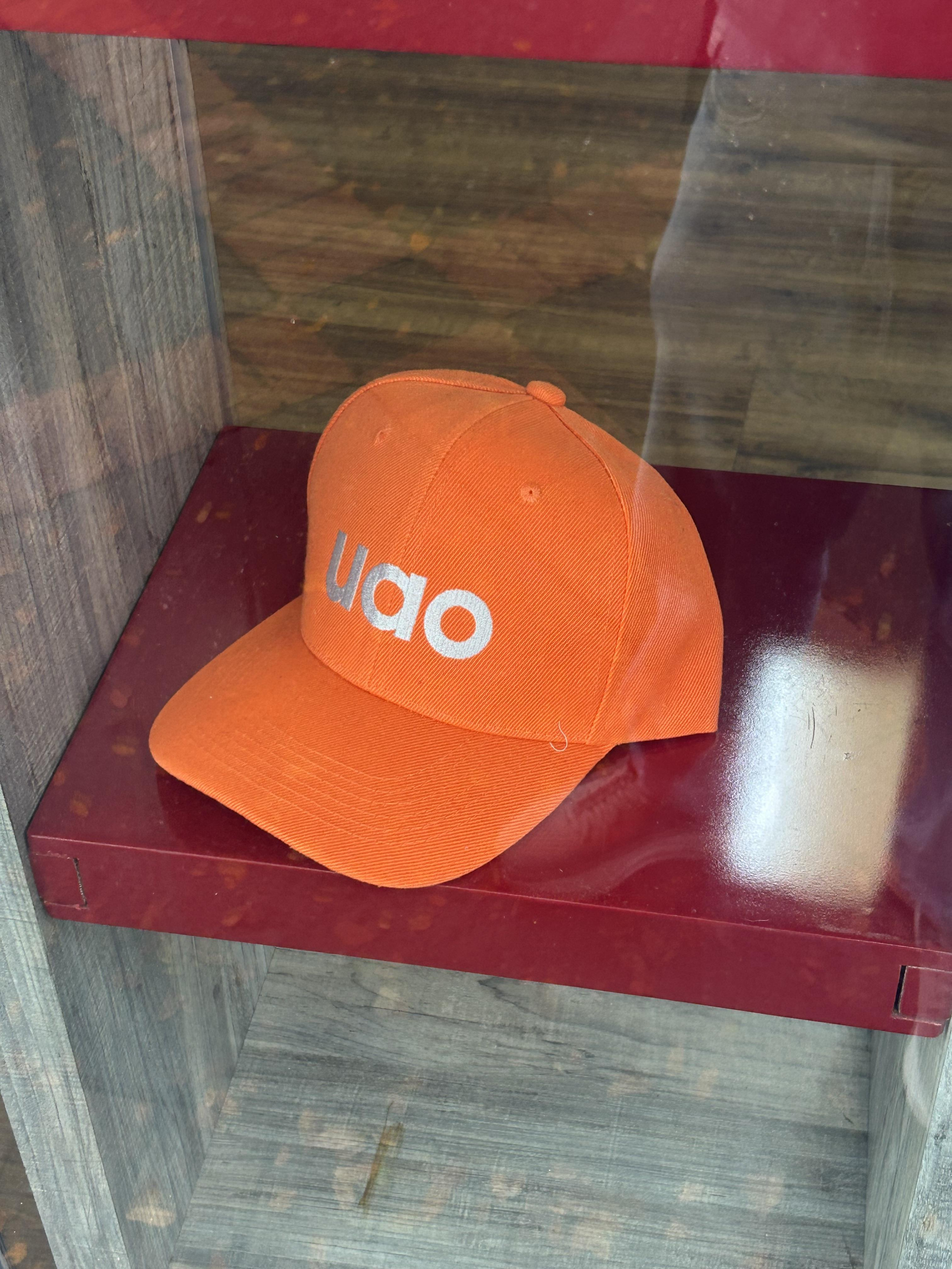gorra: (150, 370, 722, 888)
